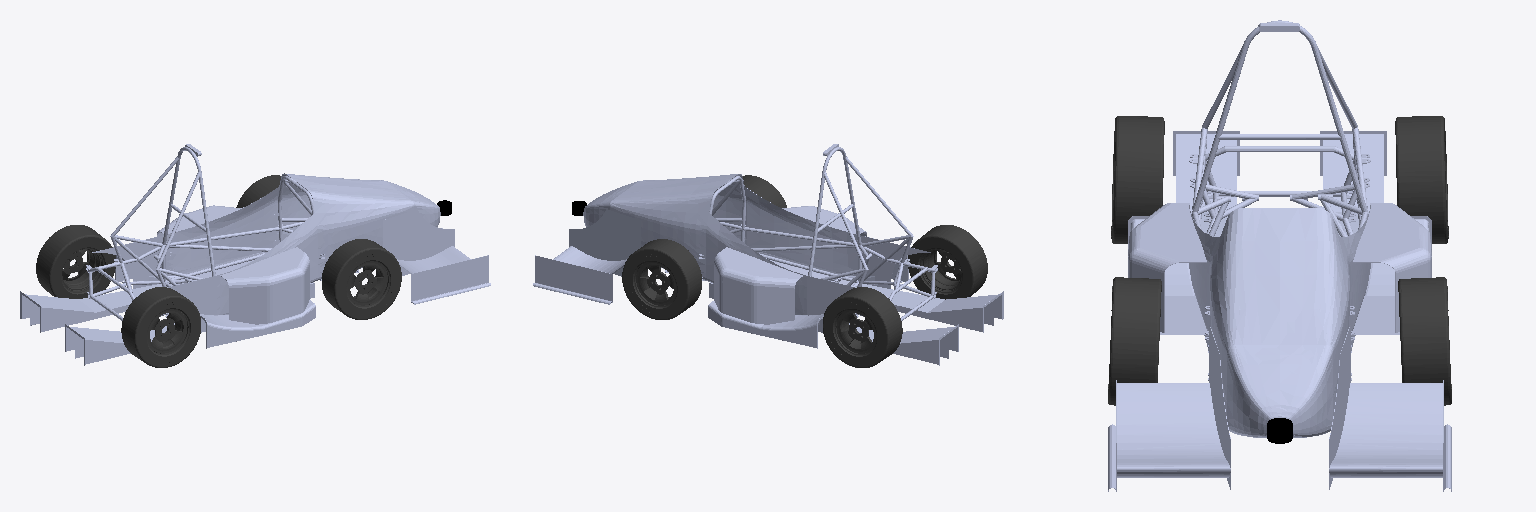
URDF robot description (aam2_description):
<?xml version="1.0" encoding="utf-8"?>
<!-- This URDF was automatically created by SolidWorks to URDF Exporter! Originally created by [author] ([email redacted]) 
     Commit Version: 1.5.1-0-g916b5db  Build Version: 1.5.7152.31018
     For more information, please see http://wiki.ros.org/sw_urdf_exporter -->
<robot
  name="aam2_description">
  <link
    name="Body_base_link">
    <inertial>
      <origin
        xyz="0.4242 0.00099278 0.26967"
        rpy="0 0 0" />
      <mass
        value="60" />
      <inertia
        ixx="1.6457"
        ixy="0.03728"
        ixz="0.092486"
        iyy="3.4584"
        iyz="0.0033974"
        izz="4.3247" />
    </inertial>
    <visual>
      <origin
        xyz="0 0 0"
        rpy="0 0 0" />
      <geometry>
        <mesh
          filename="package://aam2_description/meshes/Body_base_link.STL" />
      </geometry>
      <material
        name="">
        <color
          rgba="0.79216 0.81961 0.93333 1" />
      </material>
    </visual>
    <collision>
      <origin
        xyz="0 0 0"
        rpy="0 0 0" />
      <geometry>
        <mesh
          filename="package://aam2_description/meshes/Body_base_link.STL" />
      </geometry>
    </collision>
  </link>
  <link
    name="FLWheel_Link">
    <inertial>
      <origin
        xyz="-5.9206E-05 0.0076579 3.5345E-06"
        rpy="0 0 0" />
      <mass
        value="15" />
      <inertia
        ixx="0.50824"
        ixy="-0.0032198"
        ixz="3.4634E-05"
        iyy="0.86224"
        iyz="-7.7661E-06"
        izz="0.50811" />
    </inertial>
    <visual>
      <origin
        xyz="0 0 0"
        rpy="0 0 0" />
      <geometry>
        <mesh
          filename="package://aam2_description/meshes/FLWheel_Link.STL" />
      </geometry>
      <material
        name="">
        <color
          rgba="0.29412 0.29412 0.29412 1" />
      </material>
    </visual>
    <collision>
      <origin
        xyz="0 0 0"
        rpy="0 0 0" />
      <geometry>
        <mesh
          filename="package://aam2_description/meshes/FLWheel_Link.STL" />
      </geometry>
    </collision>
  </link>
  <joint
    name="FL"
    type="continuous">
    <origin
      xyz="0.4793 0.60278 0.26798"
      rpy="0.03675 0 0.0090292" />
    <parent
      link="Body_base_link" />
    <child
      link="FLWheel_Link" />
    <axis
      xyz="0 1 0" />
    <dynamics
      damping="0.01"
      friction="0.1" />
  </joint>
  <link
    name="FRWheel_Link">
    <inertial>
      <origin
        xyz="-5.898E-05 -0.007658 3.3922E-06"
        rpy="0 0 0" />
      <mass
        value="15" />
      <inertia
        ixx="0.50824"
        ixy="0.0032201"
        ixz="3.4667E-05"
        iyy="0.86224"
        iyz="7.5378E-06"
        izz="0.50811" />
    </inertial>
    <visual>
      <origin
        xyz="0 0 0"
        rpy="0 0 0" />
      <geometry>
        <mesh
          filename="package://aam2_description/meshes/FRWheel_Link.STL" />
      </geometry>
      <material
        name="">
        <color
          rgba="0.29412 0.29412 0.29412 1" />
      </material>
    </visual>
    <collision>
      <origin
        xyz="0 0 0"
        rpy="0 0 0" />
      <geometry>
        <mesh
          filename="package://aam2_description/meshes/FRWheel_Link.STL" />
      </geometry>
    </collision>
  </link>
  <joint
    name="FR"
    type="continuous">
    <origin
      xyz="0.4793 -0.60278 0.26798"
      rpy="-0.03675 0 -0.0090292" />
    <parent
      link="Body_base_link" />
    <child
      link="FRWheel_Link" />
    <axis
      xyz="0 1 0" />
    <dynamics
      damping="0.01"
      friction="0.1" />
  </joint>
  <link
    name="RLWheel_link">
    <inertial>
      <origin
        xyz="8.4957E-05 0.0076577 3.5974E-06"
        rpy="0 0 0" />
      <mass
        value="15" />
      <inertia
        ixx="0.50824"
        ixy="0.0034433"
        ixz="3.4444E-05"
        iyy="0.86223"
        iyz="-8.4999E-06"
        izz="0.50811" />
    </inertial>
    <visual>
      <origin
        xyz="0 0 0"
        rpy="0 0 0" />
      <geometry>
        <mesh
          filename="package://aam2_description/meshes/RLWheel_link.STL" />
      </geometry>
      <material
        name="">
        <color
          rgba="0.29412 0.29412 0.29412 1" />
      </material>
    </visual>
    <collision>
      <origin
        xyz="0 0 0"
        rpy="0 0 0" />
      <geometry>
        <mesh
          filename="package://aam2_description/meshes/RLWheel_link.STL" />
      </geometry>
    </collision>
  </link>
  <joint
    name="RL"
    type="continuous">
    <origin
      xyz="-1.1124 0.59 0.26743"
      rpy="0.034908 0 0.0090488" />
    <parent
      link="Body_base_link" />
    <child
      link="RLWheel_link" />
    <axis
      xyz="0 1 0" />
    <dynamics
      damping="0.01"
      friction="0.1" />
  </joint>
  <link
    name="RRWheel_link">
    <inertial>
      <origin
        xyz="8.5143E-05 -0.0076577 3.3794E-06"
        rpy="0 0 0" />
      <mass
        value="15" />
      <inertia
        ixx="0.50825"
        ixy="-0.0034431"
        ixz="3.4517E-05"
        iyy="0.86223"
        iyz="8.1749E-06"
        izz="0.50811" />
    </inertial>
    <visual>
      <origin
        xyz="0 0 0"
        rpy="0 0 0" />
      <geometry>
        <mesh
          filename="package://aam2_description/meshes/RRWheel_link.STL" />
      </geometry>
      <material
        name="">
        <color
          rgba="0.29412 0.29412 0.29412 1" />
      </material>
    </visual>
    <collision>
      <origin
        xyz="0 0 0"
        rpy="0 0 0" />
      <geometry>
        <mesh
          filename="package://aam2_description/meshes/RRWheel_link.STL" />
      </geometry>
    </collision>
  </link>
  <joint
    name="RR"
    type="continuous">
    <origin
      xyz="-1.1124 -0.59 0.26743"
      rpy="-0.034908 0 -0.0090488" />
    <parent
      link="Body_base_link" />
    <child
      link="RRWheel_link" />
    <axis
      xyz="0 1 0" />
    <dynamics
      damping="0.01"
      friction="0.1" />
  </joint>
  <link
    name="lidar_link">
    <inertial>
      <origin
        xyz="-0.053516 -1.8601E-06 -7.0365E-05"
        rpy="0 0 0" />
      <mass
        value="0.61592" />
      <inertia
        ixx="0.0006838"
        ixy="3.8781E-12"
        ixz="-3.1807E-06"
        iyy="0.00069055"
        iyz="-3.8172E-08"
        izz="0.00083911" />
    </inertial>
    <visual>
      <origin
        xyz="0 0 0"
        rpy="0 0 0" />
      <geometry>
        <mesh
          filename="package://aam2_description/meshes/lidar_link.STL" />
      </geometry>
      <material
        name="">
        <color
          rgba="0 0 0 1" />
      </material>
    </visual>
    <collision>
      <origin
        xyz="0 0 0"
        rpy="0 0 0" />
      <geometry>
        <mesh
          filename="package://aam2_description/meshes/lidar_link.STL" />
      </geometry>
    </collision>
  </link>
  <joint
    name="lidar"
    type="fixed">
    <origin
      xyz="1.5436 0 0.33267"
      rpy="0 0 0" />
    <parent
      link="Body_base_link" />
    <child
      link="lidar_link" />
    <axis
      xyz="0 0 0" />
  </joint>
  <link
    name="camera_link">
    <inertial>
      <origin
        xyz="0.4242 0.00099278 0.26967"
        rpy="0 0 0" />
      <mass
        value="75.184" />
      <inertia
        ixx="1.6457"
        ixy="0.03728"
        ixz="0.092486"
        iyy="3.4584"
        iyz="0.0033974"
        izz="4.3247" />
    </inertial>
    <visual>
      <origin
        xyz="0 0 0"
        rpy="0 0 0" />
      <geometry>
        <mesh
          filename="package://aam2_description/meshes/camera_link.STL" />
      </geometry>
      <material
        name="">
        <color
          rgba="0.79216 0.81961 0.93333 1" />
      </material>
    </visual>
    <collision>
      <origin
        xyz="0 0 0"
        rpy="0 0 0" />
      <geometry>
        <mesh
          filename="package://aam2_description/meshes/camera_link.STL" />
      </geometry>
    </collision>
  </link>
  <joint
    name="camera"
    type="fixed">
    <origin
      xyz="-0.501741677782671 -0.00204072303255767 1.245585153331"
      rpy="-0.000146049185555953 -0.0134583610912312 0.0108518311682477" />
    <parent
      link="Body_base_link" />
    <child
      link="camera_link" />
    <axis
      xyz="0 0 0" />
  </joint>

<gazebo reference ="RR">
    <material>Gazebo/Black</material>
</gazebo>

<gazebo reference ="RL">
    <material>Gazebo/Black</material>
</gazebo>

<gazebo reference ="FR">
    <material>Gazebo/Black</material>
</gazebo>

<gazebo reference ="FL">
    <material>Gazebo/Black</material>
</gazebo>

<gazebo>
  <plugin name="gazebo_ros_control" filename= "libgazebo_ros_control.so">
   <robotNamespace>/</robotNamespace>
   <legacyModeNS>true</legacyModeNS>
  </plugin>
</gazebo>

<!-- ............... Diff Drive ............... -->
 <transmission name="rear_left_wheel_trans">
      <type>transmission_interface/SimpleTransmission</type>
      <joint name="RL">
        <hardwareInterface>VelocityJointInterface</hardwareInterface>
      </joint>
      <actuator name="rear_left_wheel_motor">
        <hardwareInterface>EffortJointInterface</hardwareInterface>
        <mechanicalReduction>1</mechanicalReduction>
      </actuator>
    
 </transmission>

 <transmission name="rear_right_wheel_trans">
      <type>transmission_interface/SimpleTransmission</type>
      <joint name="RR">
        <hardwareInterface>VelocityJointInterface</hardwareInterface>
      </joint>
      <actuator name="rear_right_wheel_motor">
        <hardwareInterface>EffortJointInterface</hardwareInterface>
        <mechanicalReduction>1</mechanicalReduction>
      </actuator>
 </transmission>

 <!-- Gazebo requires the velodyne_gazebo_plugins package -->

     <gazebo reference="lidar_link">
      <sensor type="ray" name="velodyne-VLP16">
        <pose>0 0 0 0 0 0</pose>
        <visualize>true</visualize>
        <update_rate>6</update_rate>
        <ray>
          <scan>
            <horizontal>
              <samples>1200</samples>
              <resolution>1</resolution>
              <min_angle>-2</min_angle>
              <max_angle>2</max_angle>
            </horizontal>
            <vertical>
              <samples>5</samples>
              <resolution>1</resolution>
              <min_angle>-0.122</min_angle>
              <max_angle> 0.017</max_angle>
            </vertical>
          </scan>
          <range>
            <min>0.3</min>
            <max>131</max>
            <resolution>0.001</resolution>
          </range>
          <noise>
            <type>gaussian</type>
            <mean>0.0</mean>
            <stddev>0.0</stddev>
          </noise>
        </ray>
        <plugin name="gazebo_ros_laser_controller" filename="libgazebo_ros_velodyne_laser.so">
          <topicName>/velodyne_points</topicName>
          <frameName>lidar_link</frameName>
          <min_range>0.6</min_range>
          <max_range>130</max_range>
          <gaussianNoise>0.008</gaussianNoise>
        </plugin>
      </sensor>
    </gazebo>


<!-- ............... Camera ............... -->

<gazebo reference="camera_link">
    <sensor type="multicamera" name="stereo_camera">
      <update_rate>30.0</update_rate>
      <camera name="left">
        <horizontal_fov>1.3962634</horizontal_fov>
        <image>
          <width>800</width>
          <height>800</height>
          <format>R8G8B8</format>
        </image>
        <clip>
          <near>0.02</near>
          <far>300</far>
        </clip>
        <noise>
          <type>gaussian</type>
          <mean>0.0</mean>
          <stddev>0.007</stddev>
        </noise>
      </camera>
      <camera name="right">
        <pose>0 -0.07 0 0 0 0</pose>
        <horizontal_fov>1.3962634</horizontal_fov>
        <image>
          <width>800</width>
          <height>800</height>
          <format>R8G8B8</format>
        </image>
        <clip>
          <near>0.02</near>
          <far>300</far>
        </clip>
        <noise>
          <type>gaussian</type>
          <mean>0.0</mean>
          <stddev>0.007</stddev>
        </noise>
      </camera>
      <plugin name="stereo_camera_controller" filename="libgazebo_ros_multicamera.so">
        <alwaysOn>true</alwaysOn>
        <updateRate>0.0</updateRate>
        <cameraName>multisense_sl/camera</cameraName>
        <imageTopicName>image_raw</imageTopicName>
        <cameraInfoTopicName>camera_info</cameraInfoTopicName>
        <frameName>left_camera_optical_frame</frameName>
        <!--<rightFrameName>right_camera_optical_frame</rightFrameName>-->
        <hackBaseline>0.07</hackBaseline>
        <distortionK1>0.0</distortionK1>
        <distortionK2>0.0</distortionK2>
        <distortionK3>0.0</distortionK3>
        <distortionT1>0.0</distortionT1>
        <distortionT2>0.0</distortionT2>
      </plugin>
    </sensor>
  </gazebo>

</robot>

--- Render facts (derived) ---
Views: 3 orthographic renders of the robot side by side, from view 1: azimuth 30°, elevation 25°; view 2: azimuth 150°, elevation 25°; view 3: azimuth 270°, elevation 25°.
Model aam2_description with 7 links and 6 joints (4 continuous, 2 fixed), rooted at Body_base_link, posed every joint at zero.
Links seen in each view (by area): view 1: Body_base_link, RRWheel_link, FRWheel_Link, RLWheel_link, FLWheel_Link; view 2: Body_base_link, RLWheel_link, FLWheel_Link, RRWheel_link, FRWheel_Link; view 3: Body_base_link, RLWheel_link, RRWheel_link, FLWheel_Link, FRWheel_Link, lidar_link.
Link boxes in pixels (bbox=[...]): Body_base_link: bbox=[20, 147, 490, 365]; RRWheel_link: bbox=[121, 287, 200, 367]; FRWheel_Link: bbox=[322, 239, 401, 319]; RLWheel_link: bbox=[36, 225, 115, 298]; FLWheel_Link: bbox=[236, 175, 280, 207]; Body_base_link: bbox=[533, 147, 1003, 365]; RLWheel_link: bbox=[823, 287, 902, 367]; FLWheel_Link: bbox=[622, 239, 701, 319]; RRWheel_link: bbox=[908, 225, 987, 299]; FRWheel_Link: bbox=[743, 175, 786, 207]; Body_base_link: bbox=[1108, 20, 1451, 491]; RLWheel_link: bbox=[1395, 116, 1448, 243]; RRWheel_link: bbox=[1111, 116, 1164, 243]; FLWheel_Link: bbox=[1398, 277, 1451, 405]; FRWheel_Link: bbox=[1108, 277, 1161, 405]; lidar_link: bbox=[1267, 418, 1292, 443].
Bounding box of the posed robot: 3.18 × 1.43 × 1.26 m (x, y, z).
Meshes: 7 distinct files referenced, 7 mesh visuals loaded (7 binary STL).
